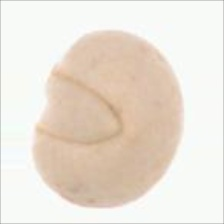L5: (33, 69, 125, 147)
L6: (29, 28, 185, 211)
